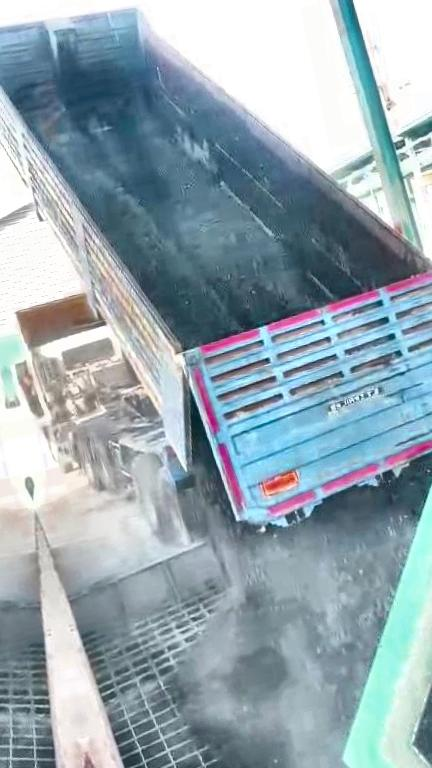gravel: (180, 412, 432, 768), (40, 87, 326, 347), (421, 466, 432, 742)
